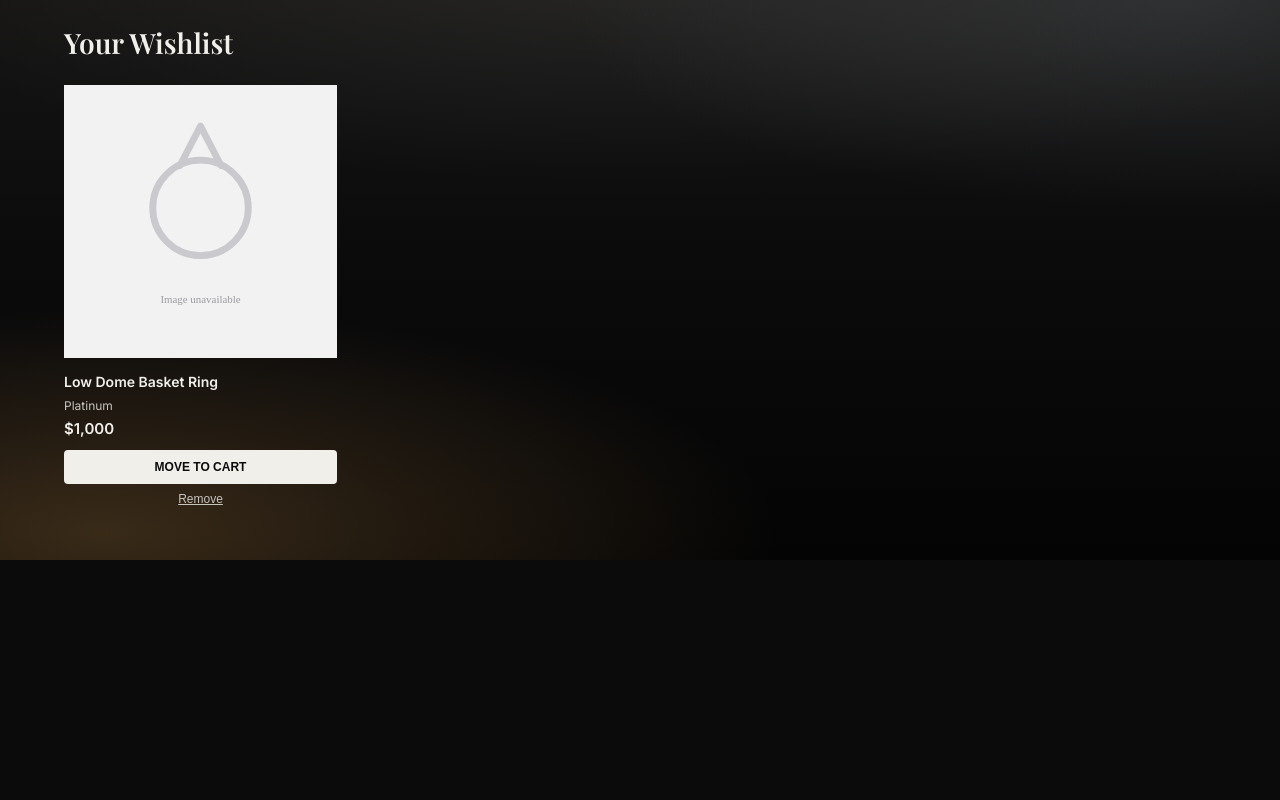
Test: WishlistPage › removes the item from the wishlist when Remove is clicked
expect the link "Low Dome Basket Ring" is shown: met, box top-left (64, 373), bottom-right (218, 390)
Click the button "Remove". click: [200, 499]
box: top-left (64, 492), bottom-right (337, 506)
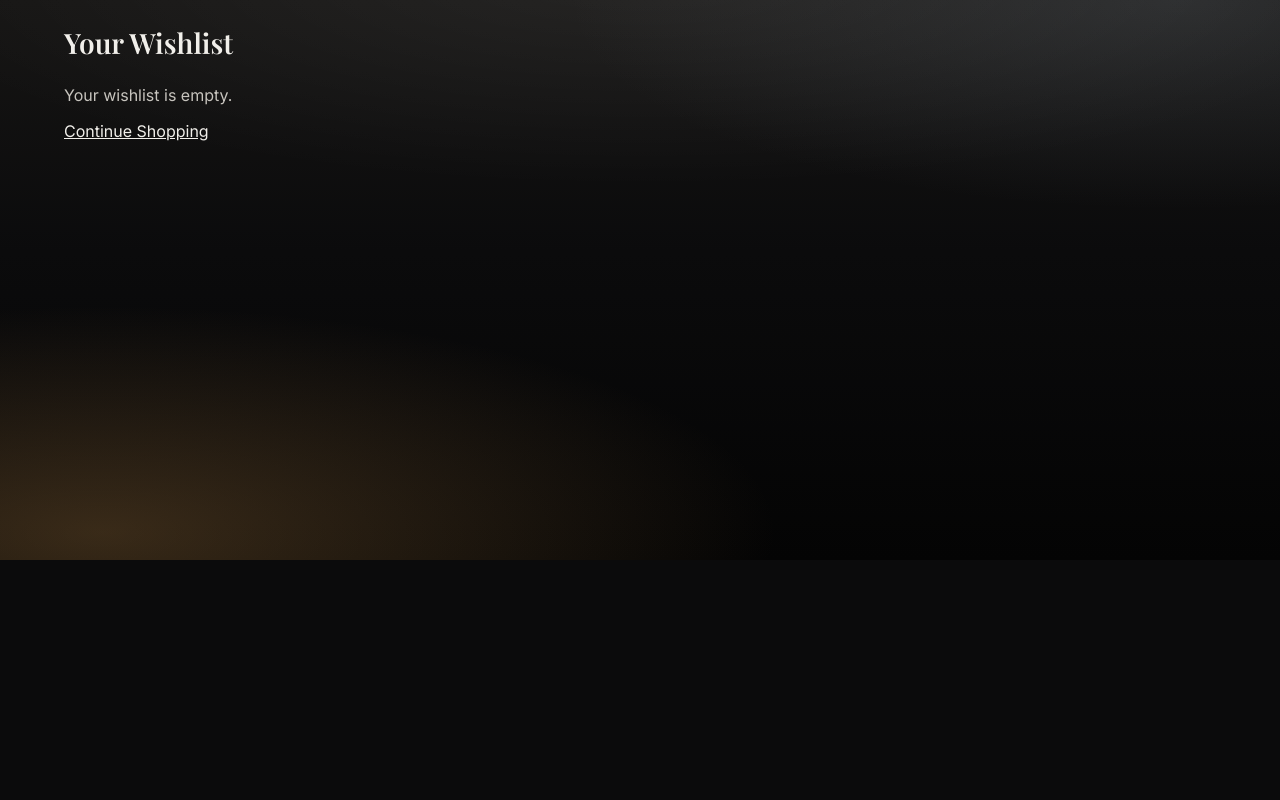
expect the text "Your wishlist is empty." is shown: met, box top-left (64, 85), bottom-right (232, 105)
